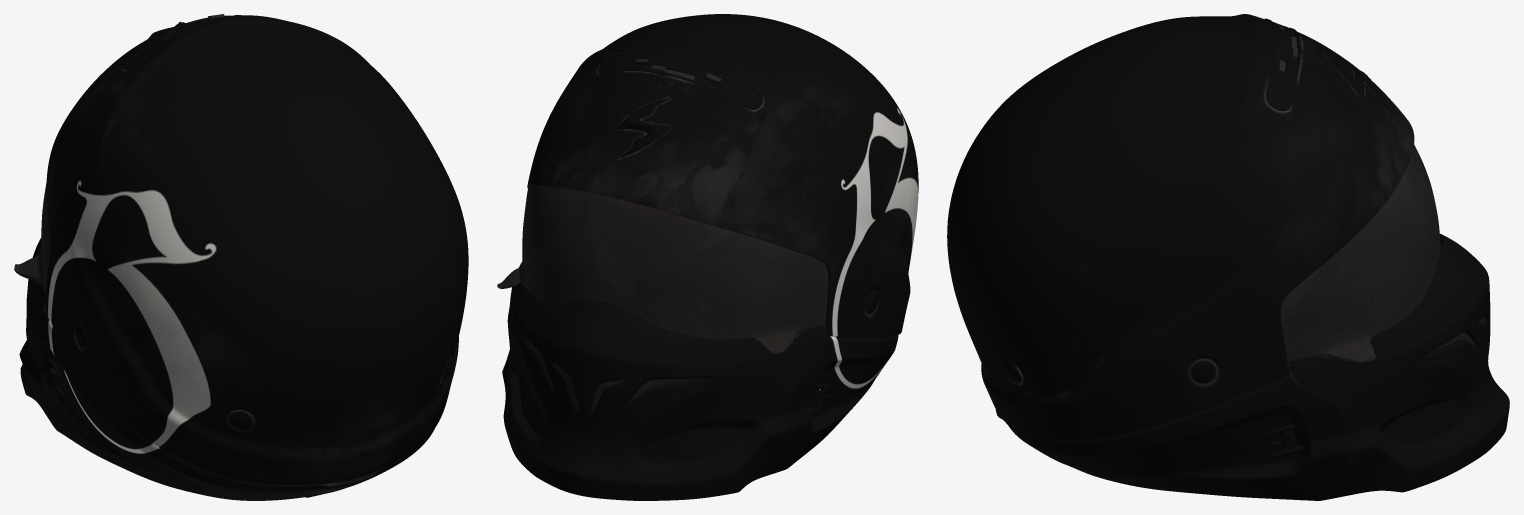
The model's file is helmet1.glb.
3 renders of one model, left to right at view 1: azimuth 30°, elevation 25°; view 2: azimuth 150°, elevation 25°; view 3: azimuth 270°, elevation 25°, orthographic. The views are drawn at different scales.
Visible parts, largest first — view 1: kask, maska; view 2: maska, kask, wnetrze; view 3: kask, maska.
Part boxes in pixels (box(x1,y1,x2,y2)): kask: box(24, 16, 468, 500); maska: box(14, 14, 343, 497); maska: box(497, 52, 828, 500); kask: box(507, 14, 918, 469); wnetrze: box(526, 94, 826, 411); kask: box(947, 14, 1414, 500); maska: box(1265, 18, 1509, 500).
Bounding box in the file's own units: 1.98 × 2.21 × 2.8.
Materials: 3 (3 with a texture image).
